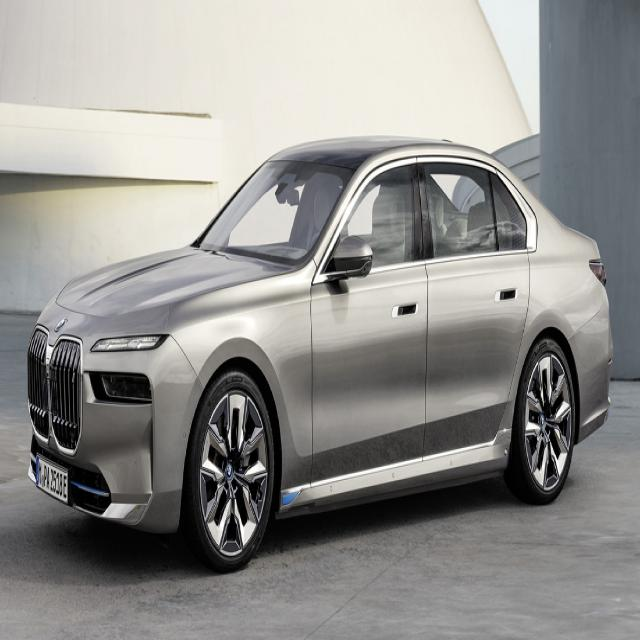yolov7-seg-car: (26, 136, 614, 575)
